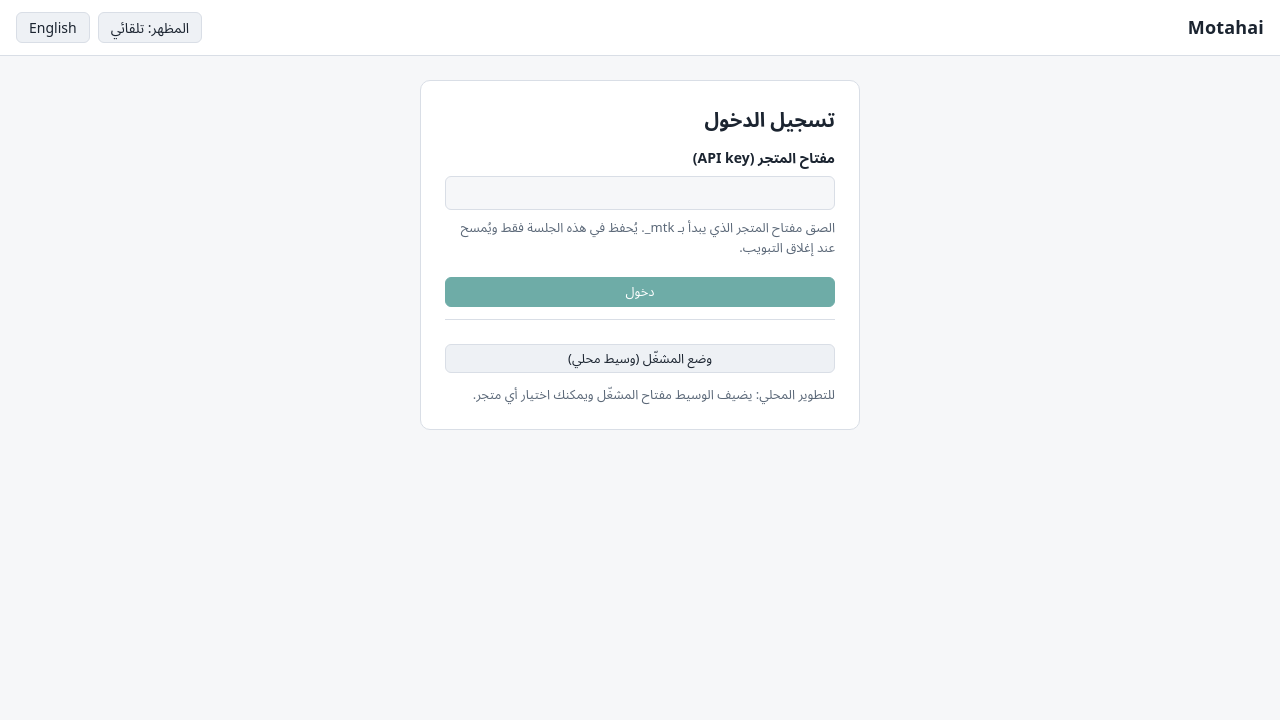
it: App shell › shows the audiences page (tenant prompt) for its route
Click the button "وضع المشغّل (وسيط محلي)".
click(640, 358)  # box [445, 344, 835, 373]
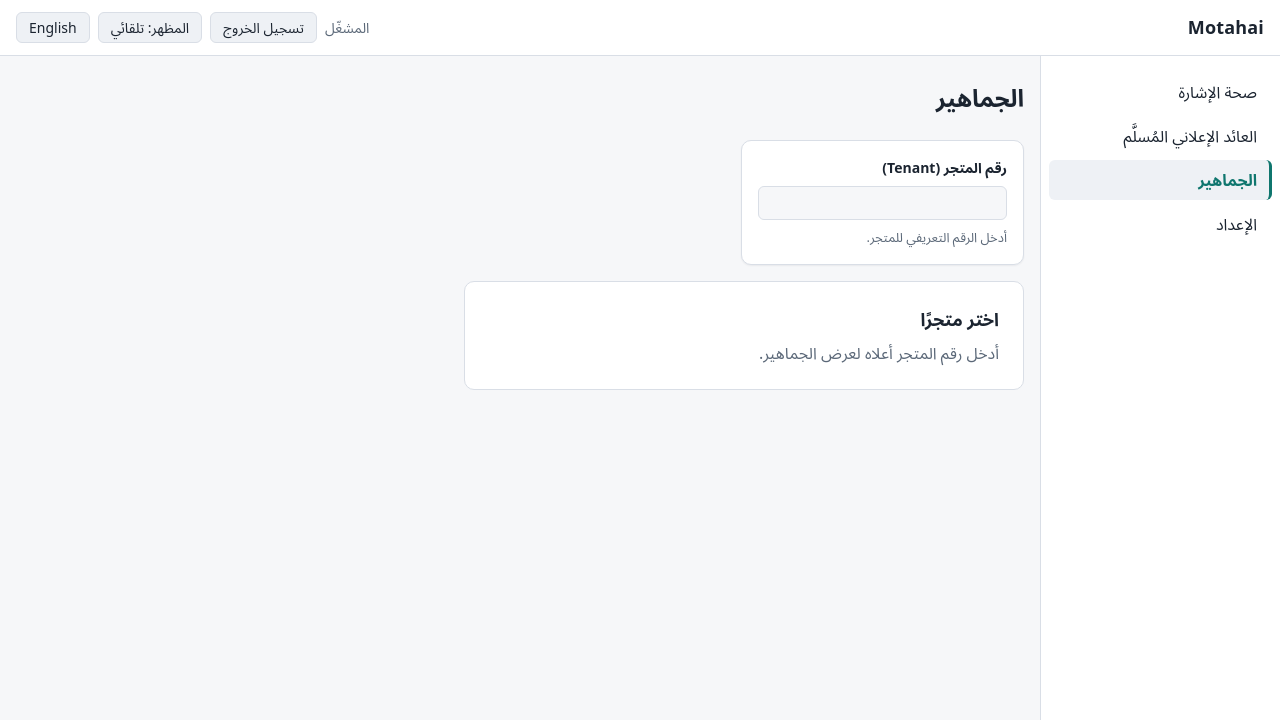
Expected: the heading "الجماهير" is shown, [936, 81, 1024, 114]
Expected: the heading "اختر متجرًا" is shown, [920, 306, 999, 330]
